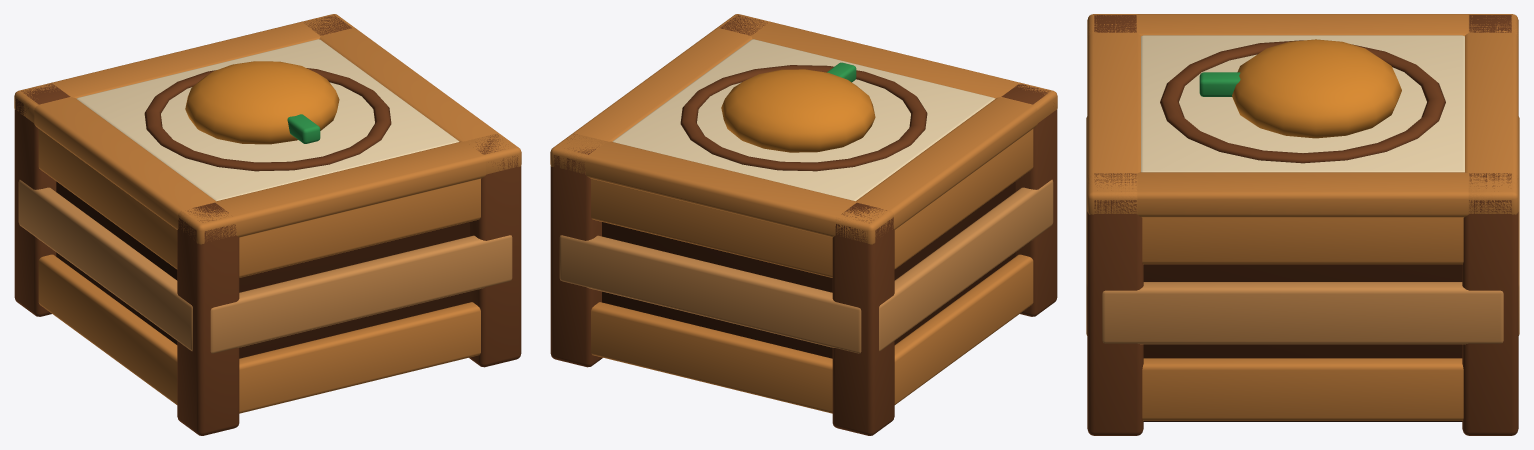
The model's file is crate_onions.gltf.
The picture shows the model from 3 angles, left to right: view 1: azimuth 30°, elevation 25°; view 2: azimuth 150°, elevation 25°; view 3: azimuth 270°, elevation 25°; orthographic projection. The views are drawn at different scales.
Visible parts, largest first — view 1: CrateShadowCore; view 2: CrateShadowCore; view 3: CrateShadowCore.
Boxes of the visible parts, bbox=[...] form: CrateShadowCore: bbox=[14, 14, 521, 435]; CrateShadowCore: bbox=[550, 14, 1057, 435]; CrateShadowCore: bbox=[1086, 14, 1519, 435].
Size of the model in its own units: 1.01 by 0.745 by 1.01.
